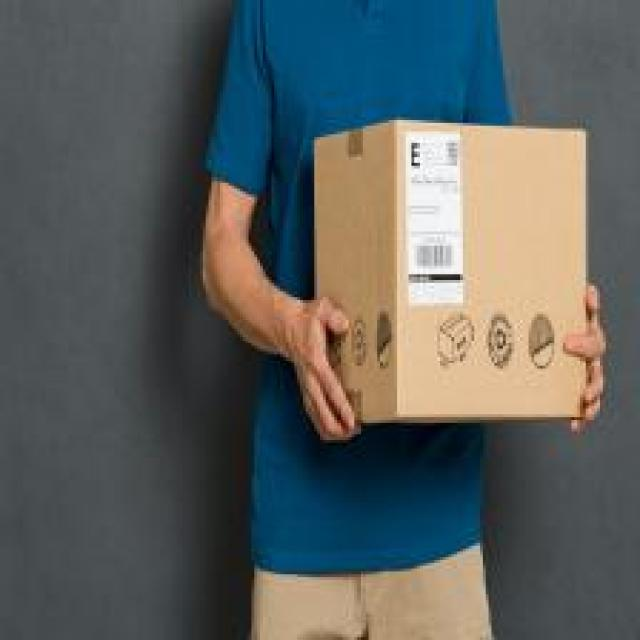box: (310, 117, 589, 426)
